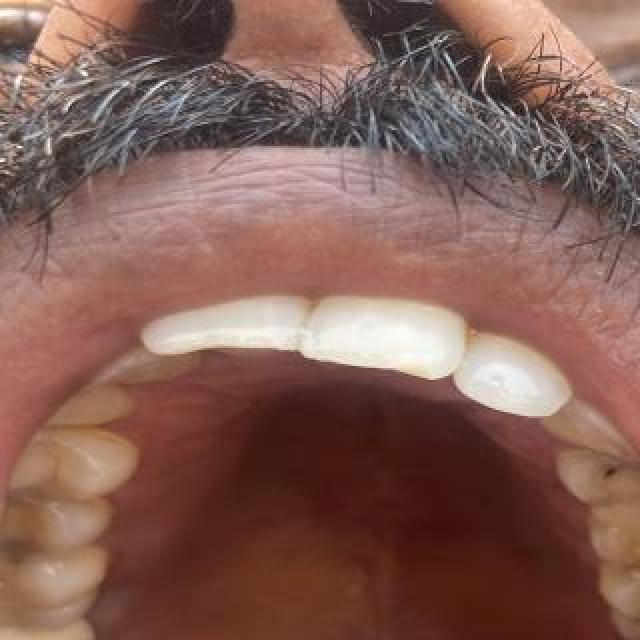calculus: (67, 419, 149, 485), (84, 488, 136, 548)
cavities: (0, 537, 66, 587), (586, 446, 640, 506)
